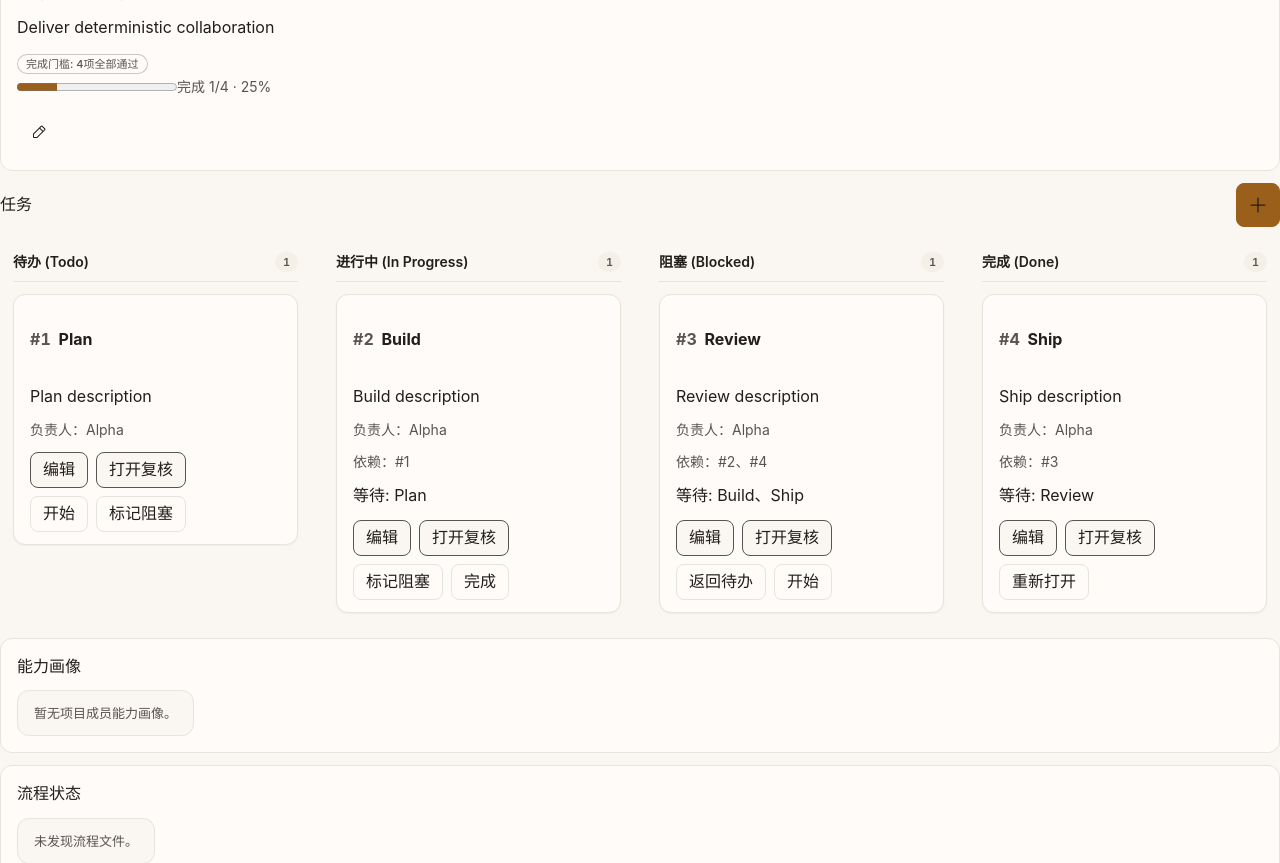
it: Mission dependency insight › refreshes the read model after a work item transition
The width and height of the screenshot is (1280, 863).
Click the button with aria-label "开始任务 Plan": (59,514) [30,496,88,532]
(page scrolled)
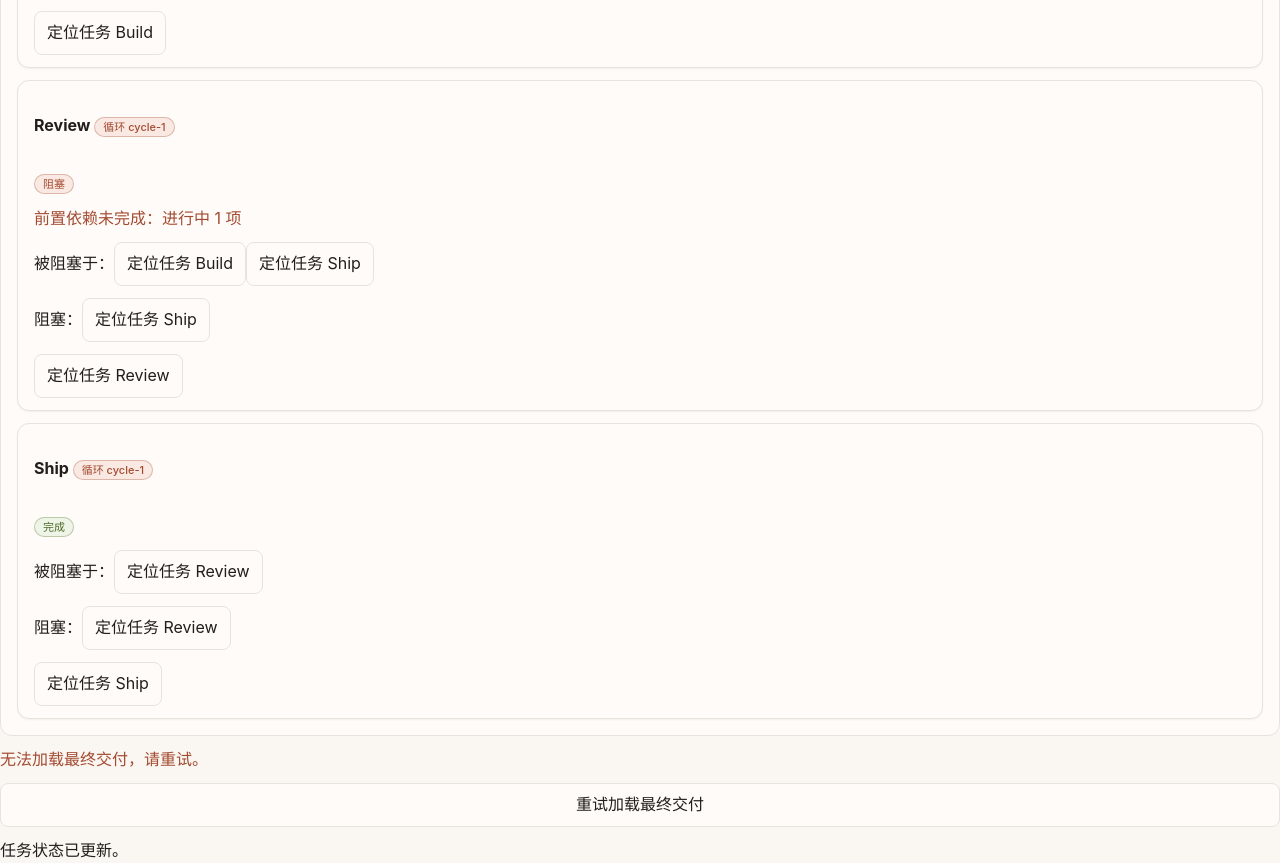
Expected: the message named "保存结果" is shown, [0,840,128,860]
